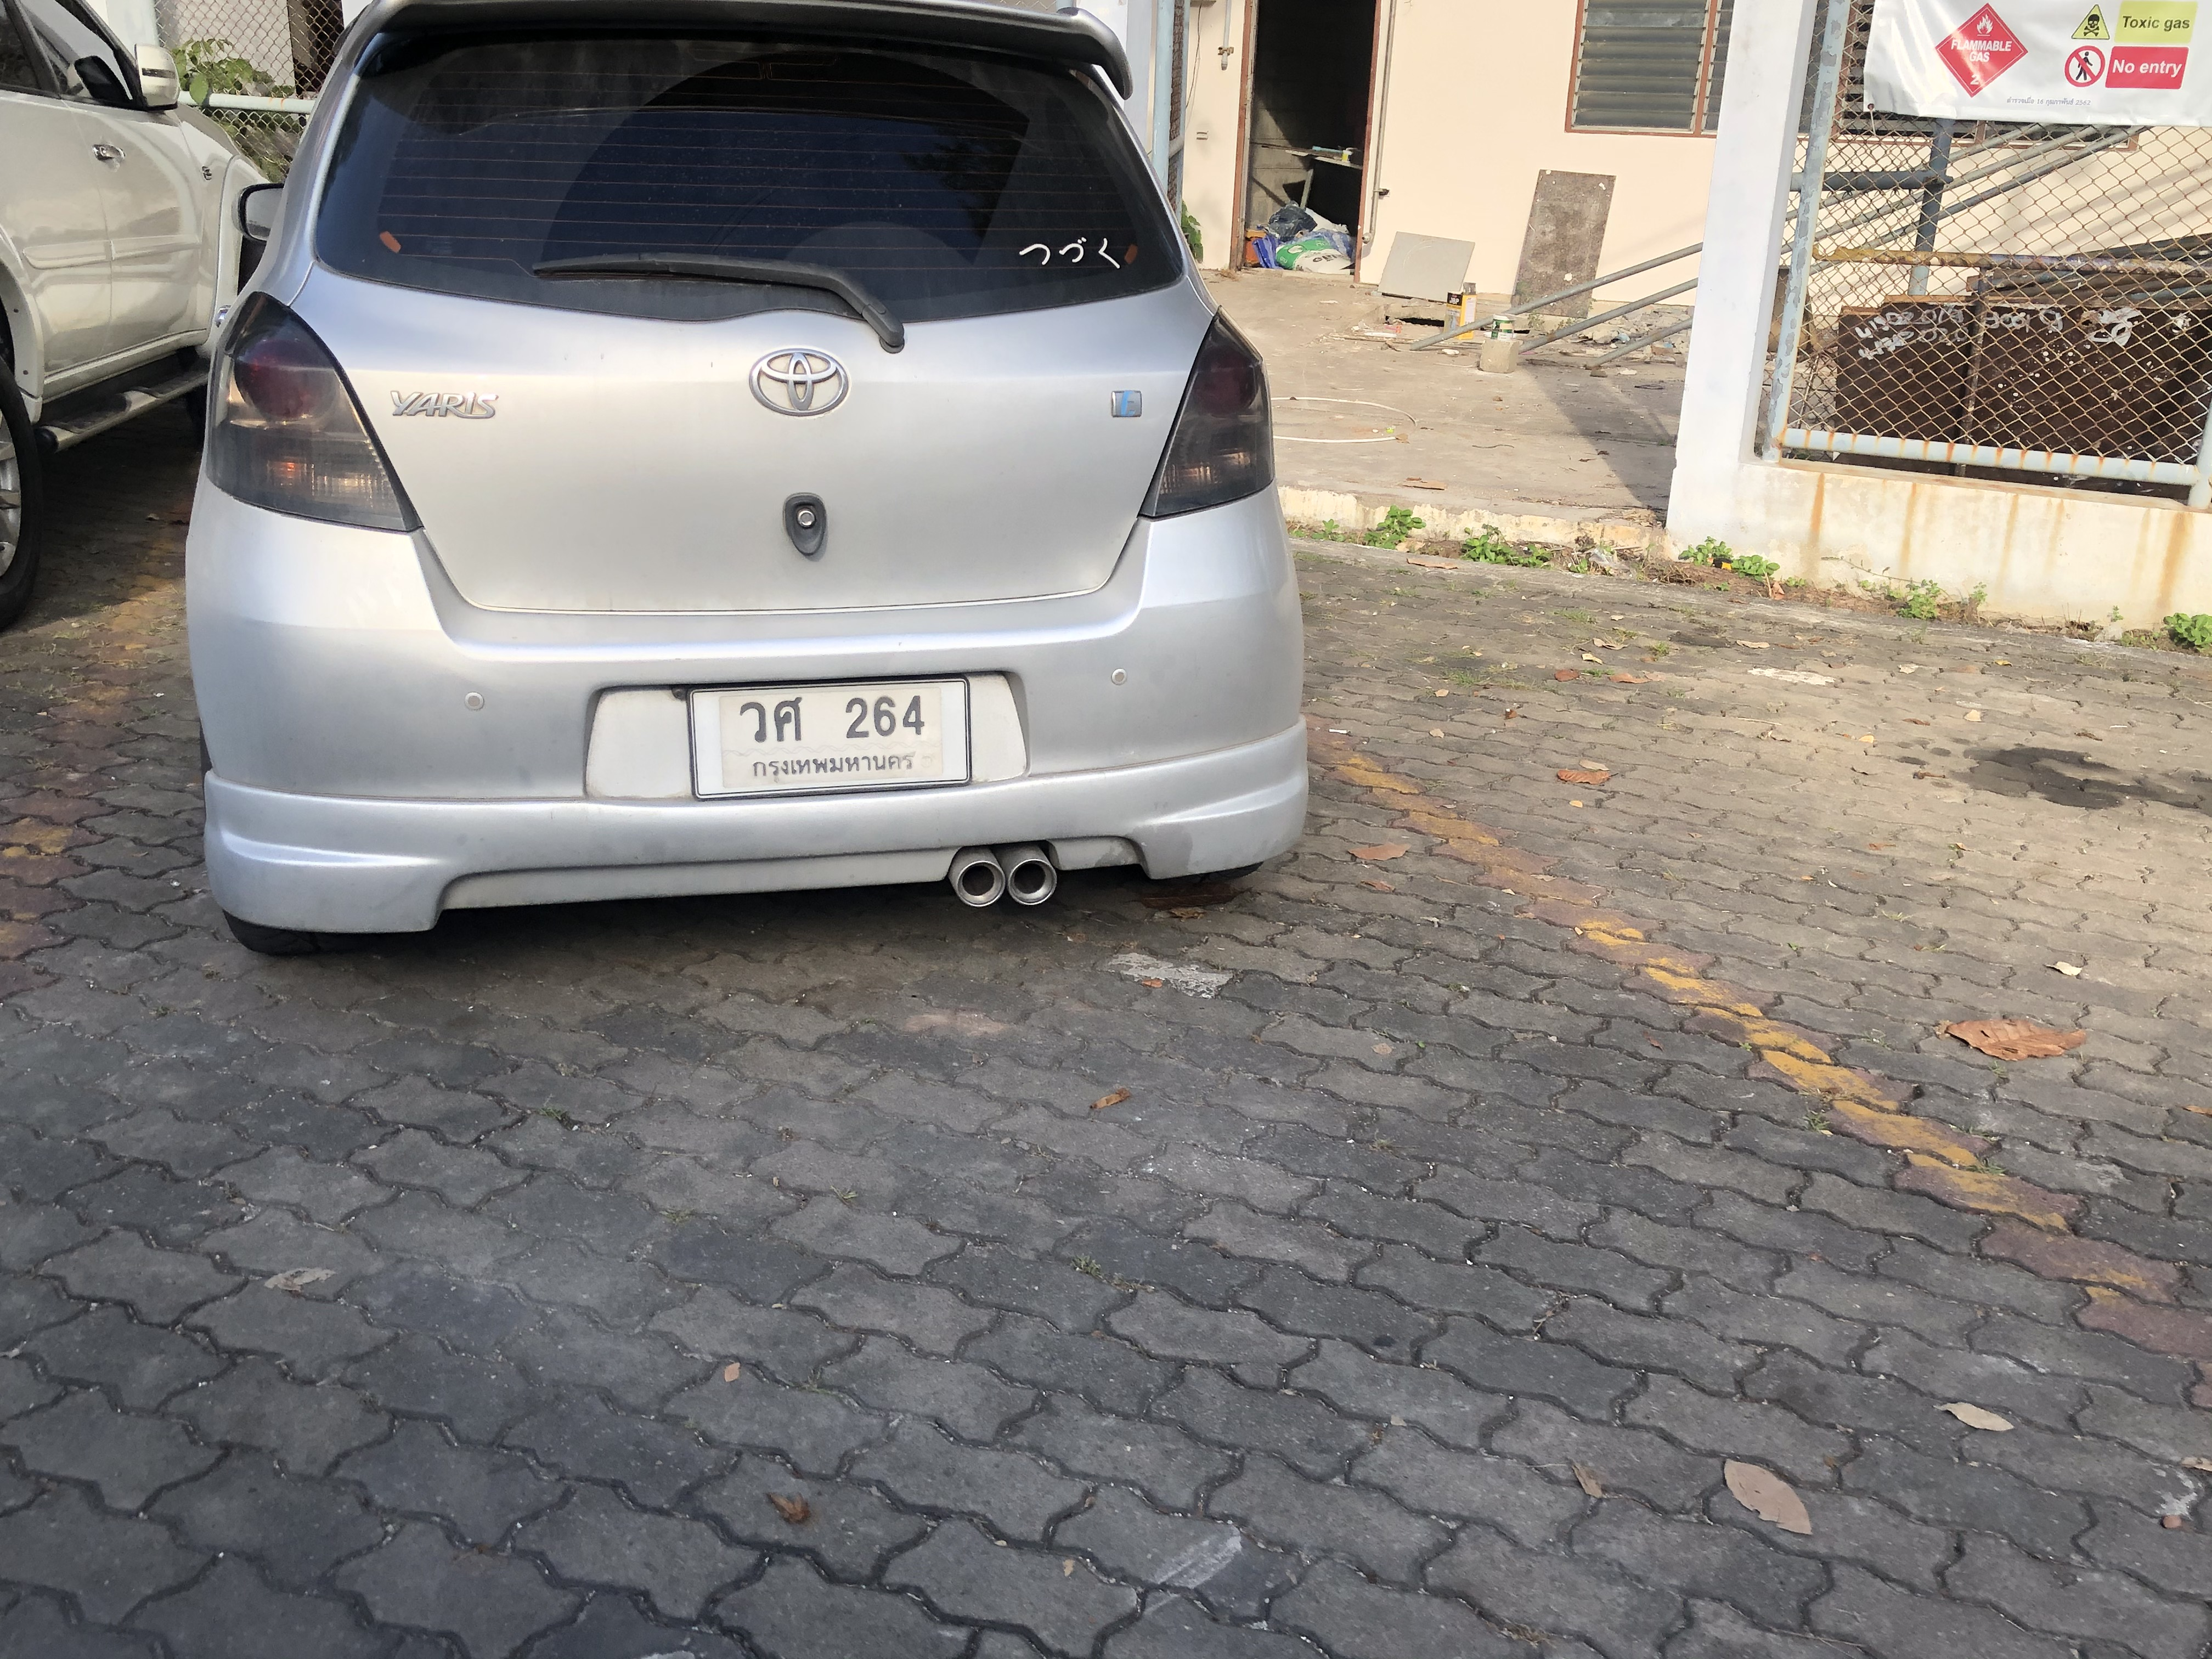in: (721, 690, 944, 784)
out: (683, 678, 979, 788)
